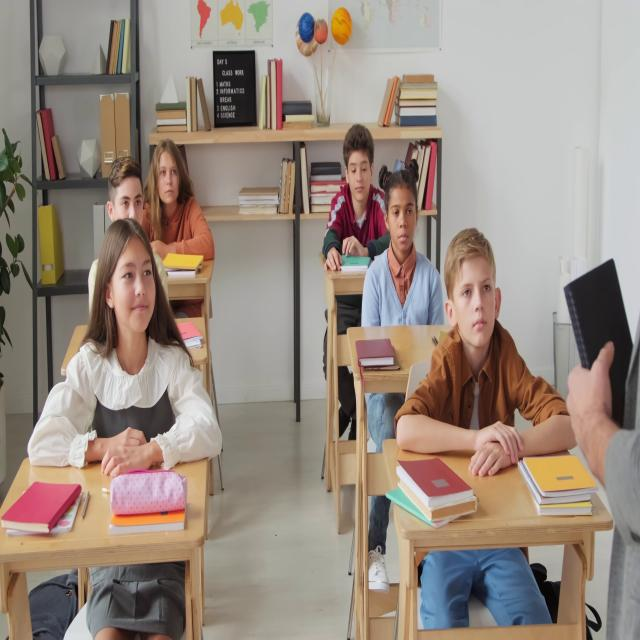listening: (397, 236, 576, 630), (27, 222, 225, 467), (360, 171, 443, 342), (144, 138, 216, 310), (89, 159, 167, 313), (321, 121, 383, 272)
